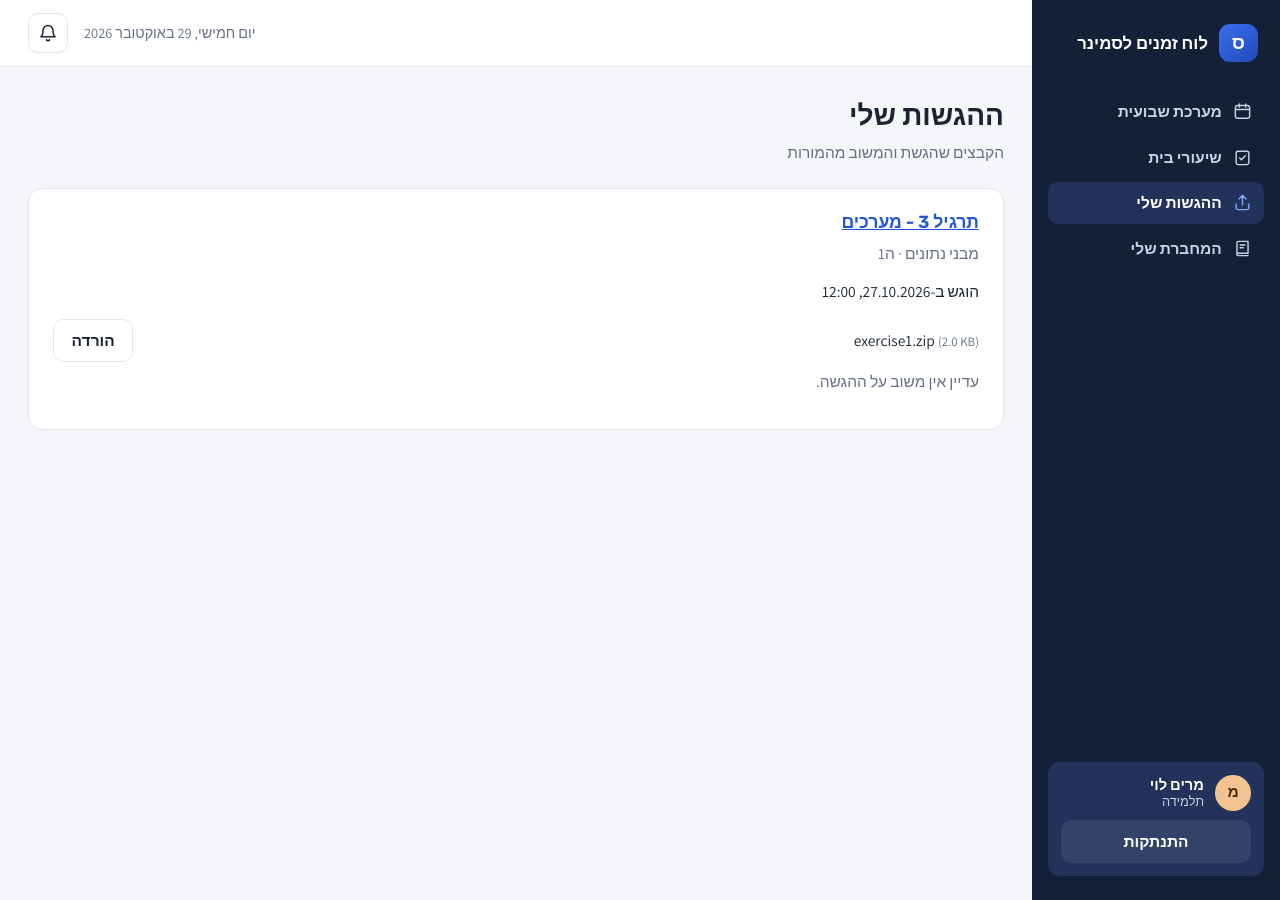
Test: ההגשות שלי › כשל בהורדה מציג הודעה קופצת ולא שומר קובץ
Click the button with aria-label "הורדת exercise1.zip": (93, 340) [53, 319, 133, 362]
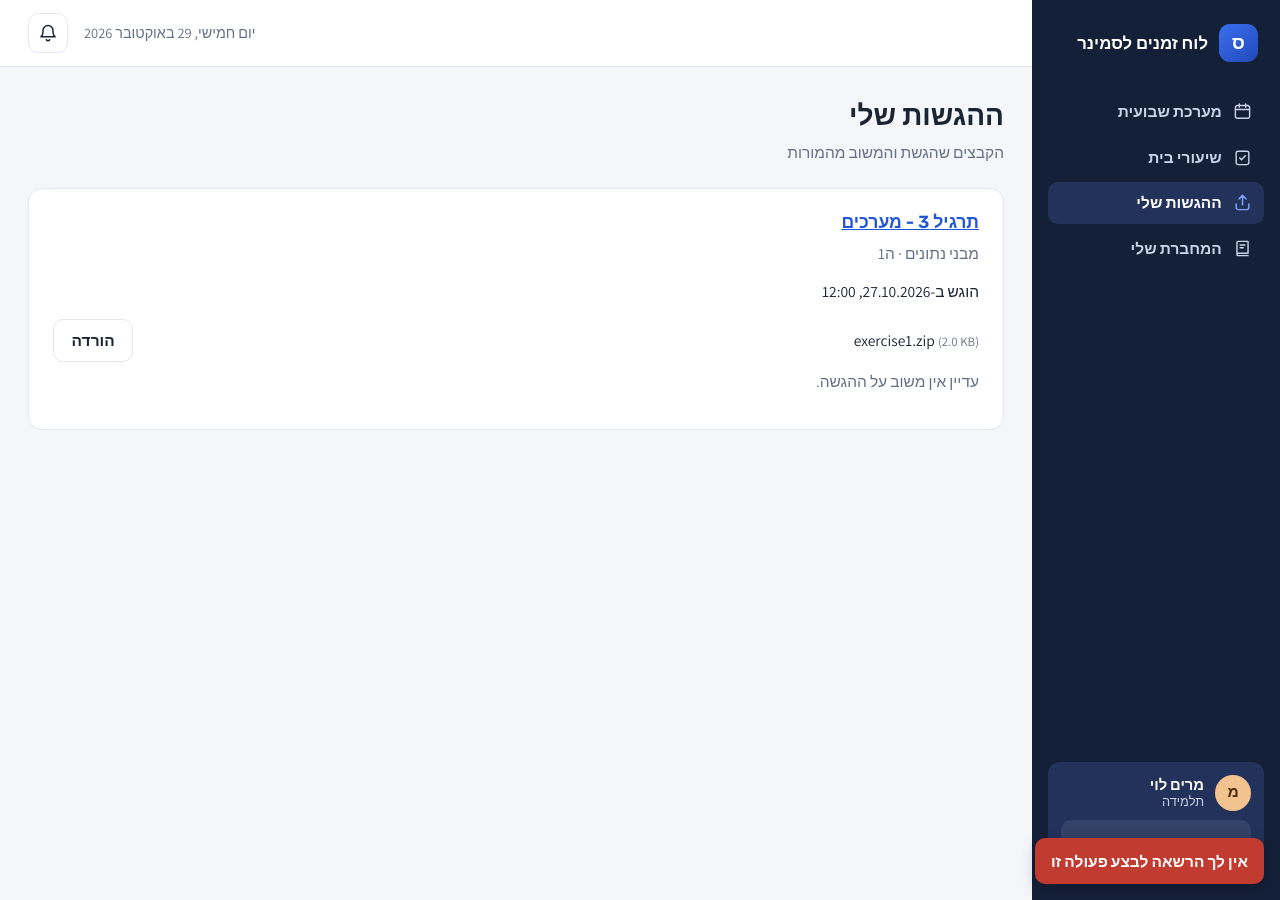
Check: the message reads "אין לך הרשאה לבצע פעולה זו", box [1051, 851, 1248, 871]
